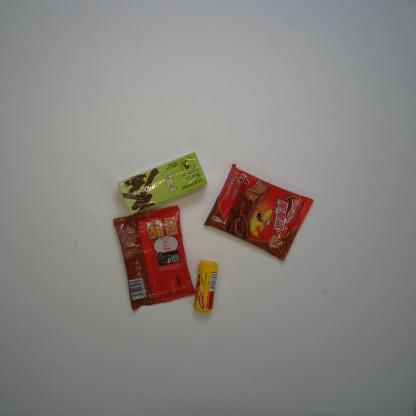Candy: (192, 260, 218, 313)
Dessert: (203, 164, 315, 262), (112, 204, 196, 312)
Instant Drink: (118, 151, 209, 215)
